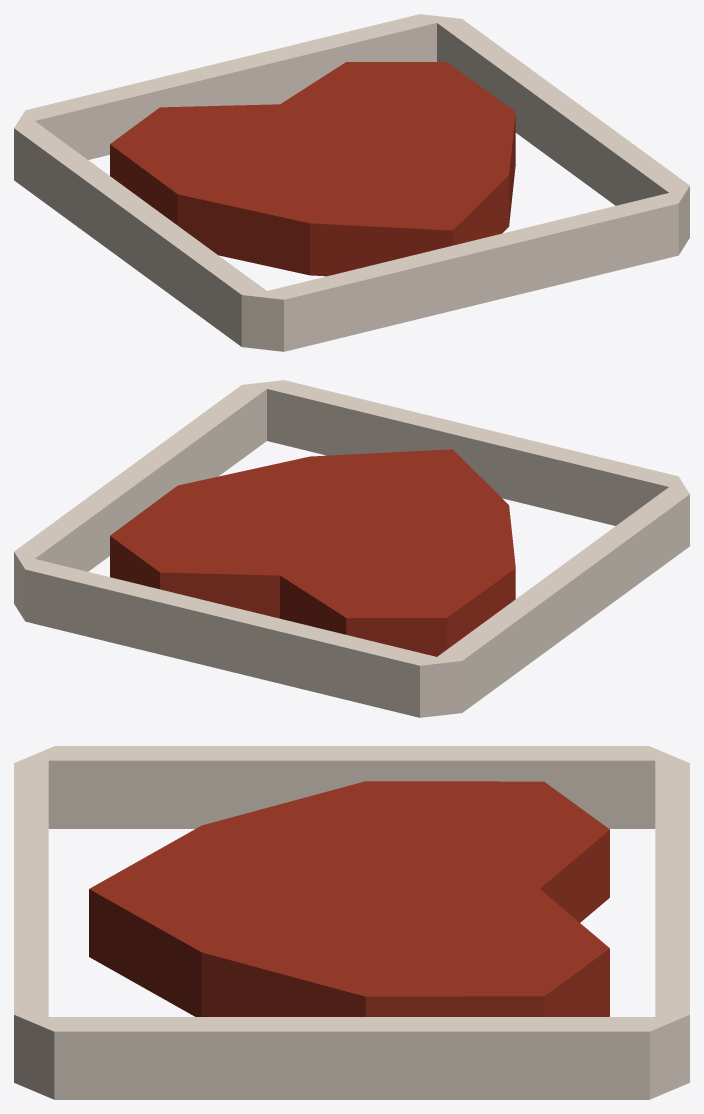
File: bonus_life.glb
3 renders of one model, top to bottom at view 1: azimuth 30°, elevation 25°; view 2: azimuth 150°, elevation 25°; view 3: azimuth 270°, elevation 25°, orthographic. The views are drawn at different scales.
Visible parts, largest first — view 1: bonus_life; view 2: bonus_life; view 3: bonus_life.
Part boxes in pixels (bbox=[...]): bonus_life: bbox=[14, 14, 689, 351]; bonus_life: bbox=[14, 380, 689, 717]; bonus_life: bbox=[14, 746, 689, 1099].
Bounding box in the file's own units: 1.8 × 0.2 × 1.8.
Materials: 1 (1 with a texture image).
